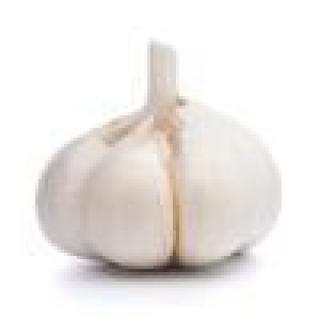Bawang Putih: (30, 36, 292, 276)
